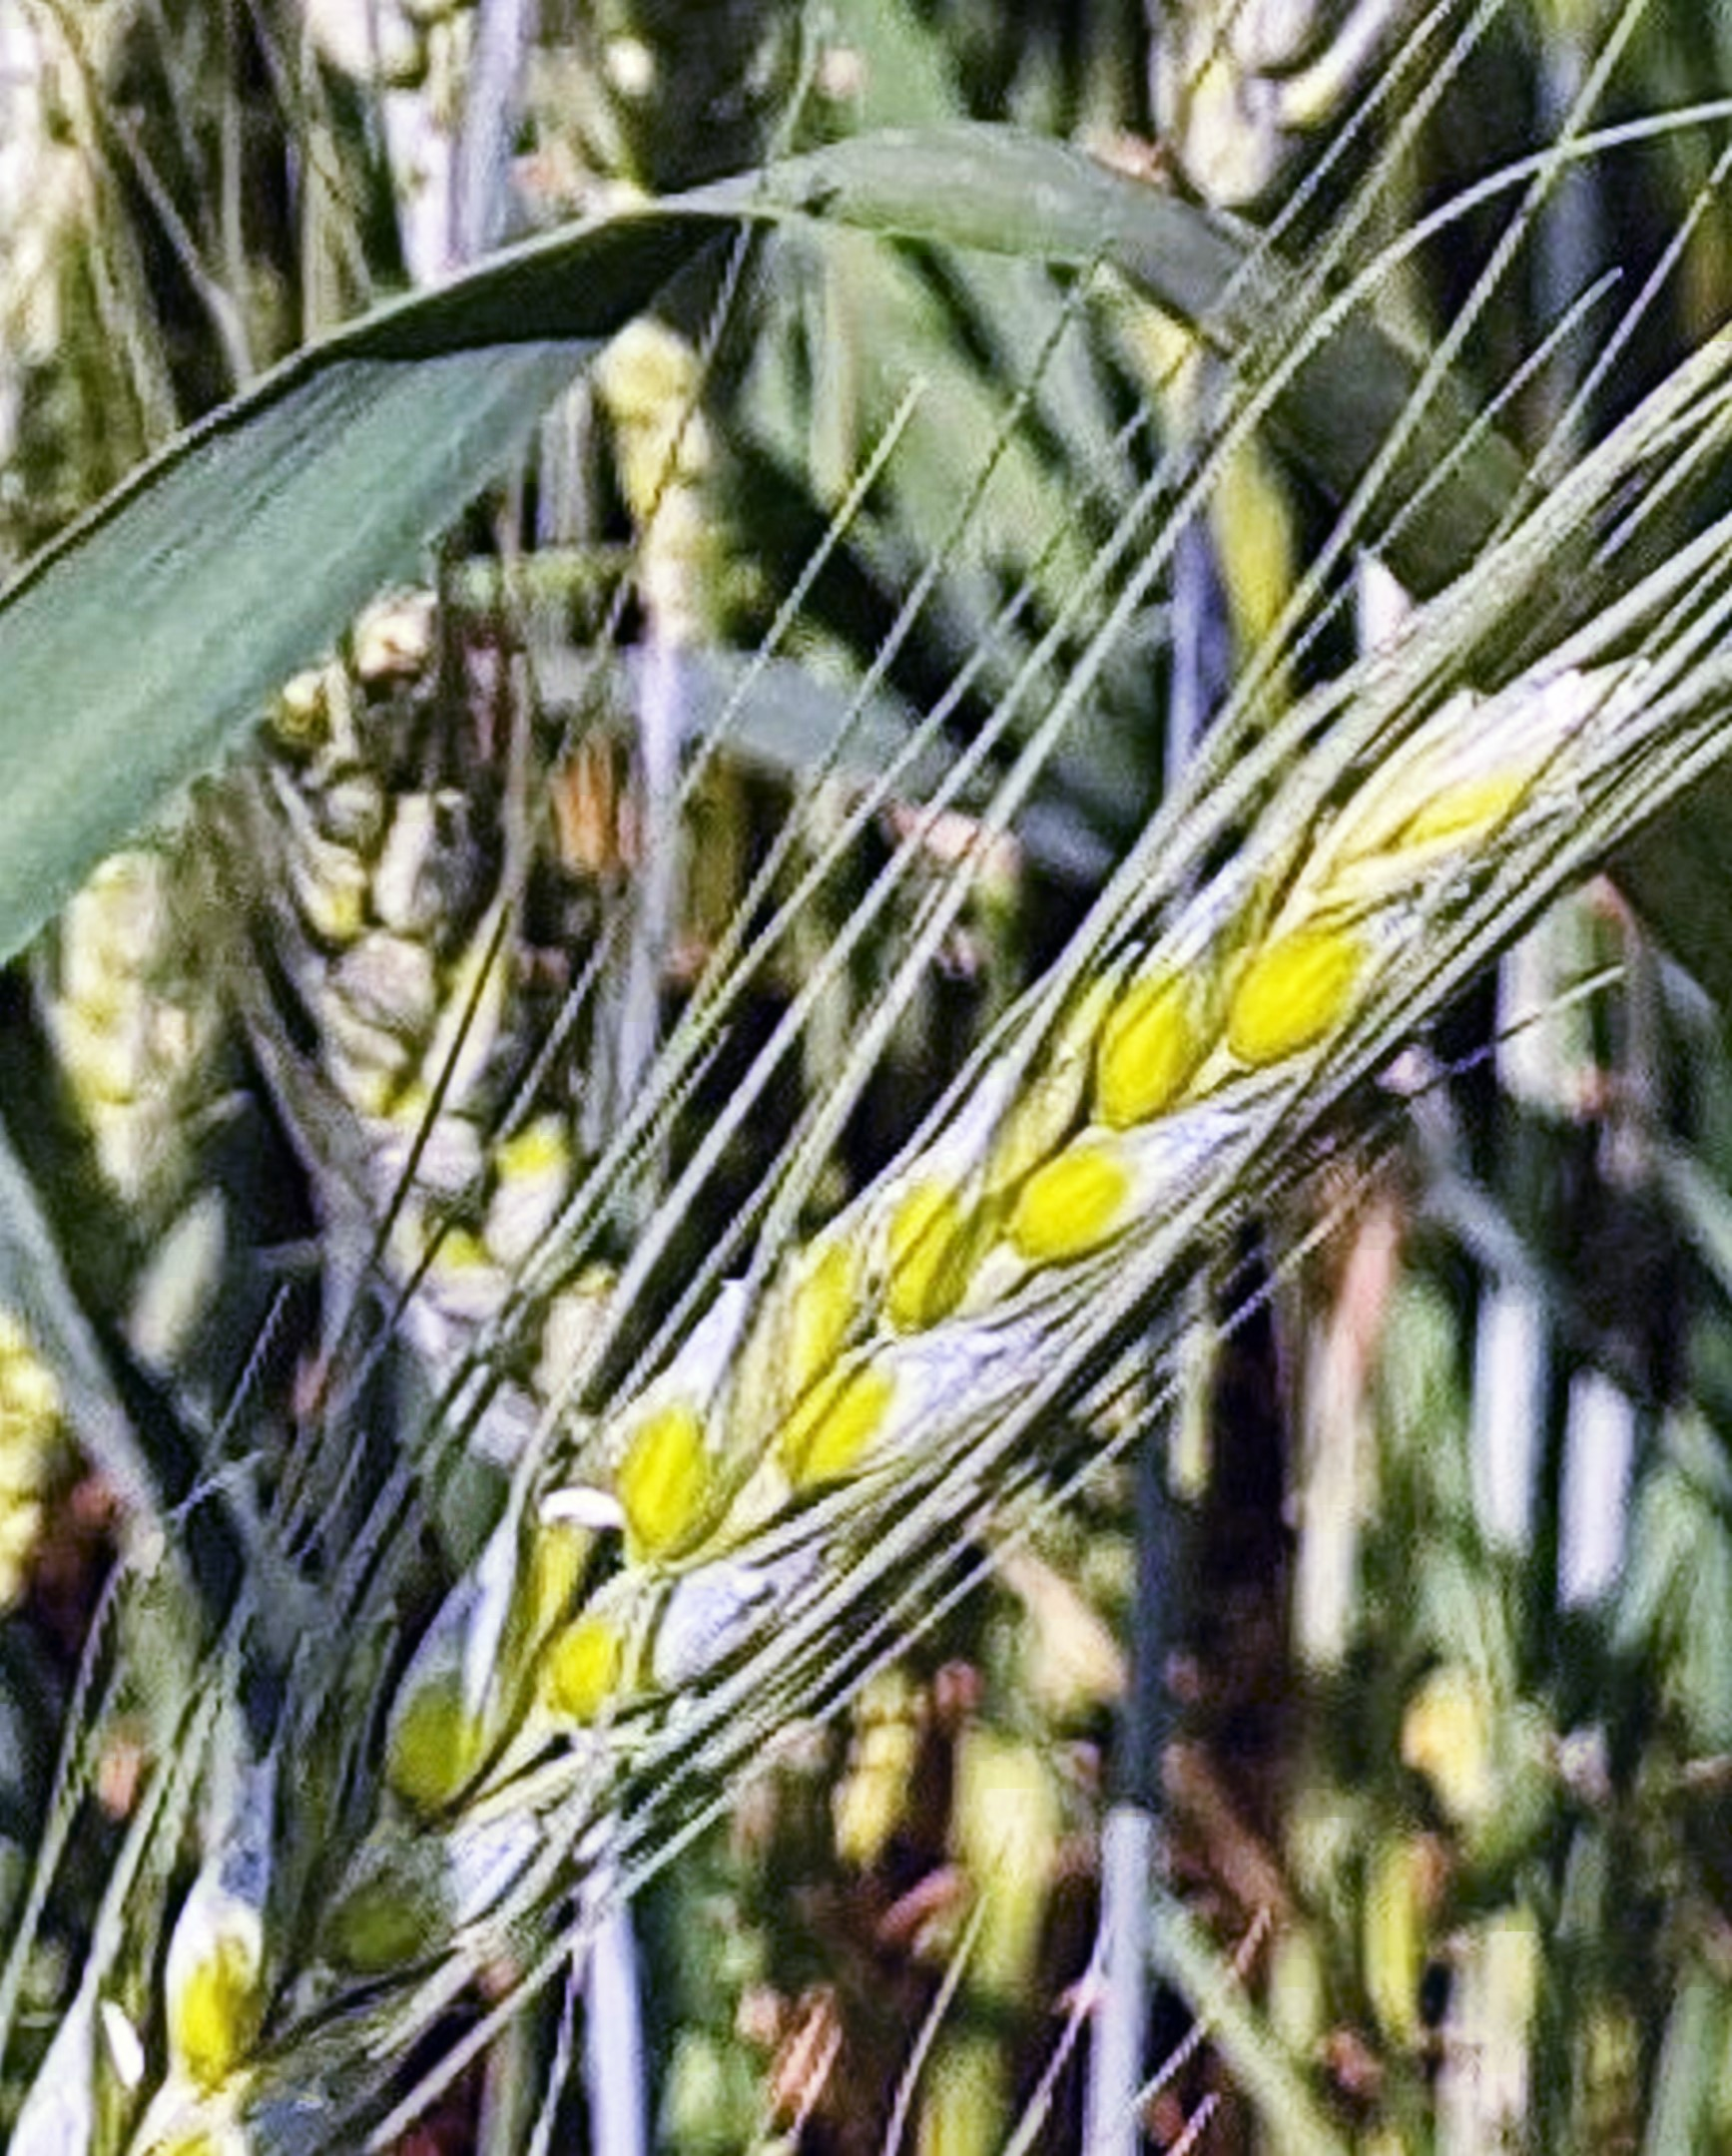Healthy Wheat: (198, 622, 1628, 2071)
